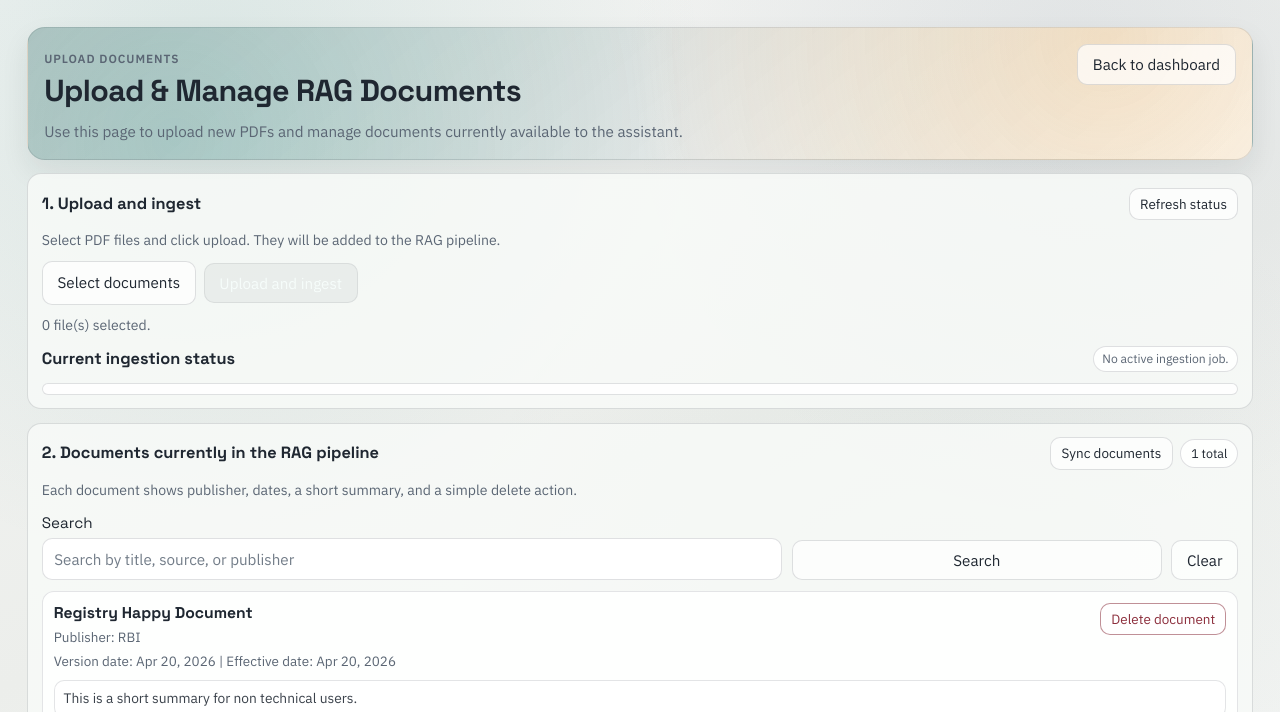
Scenario: admin upload progress › syncs documents with backfill and refreshes the library
The width and height of the screenshot is (1280, 712).
Check: the heading "Registry Happy Document" is shown, box [54,603,253,623]
Click the button "Sync documents". click: [1111, 454]
box: [1050,437,1173,470]
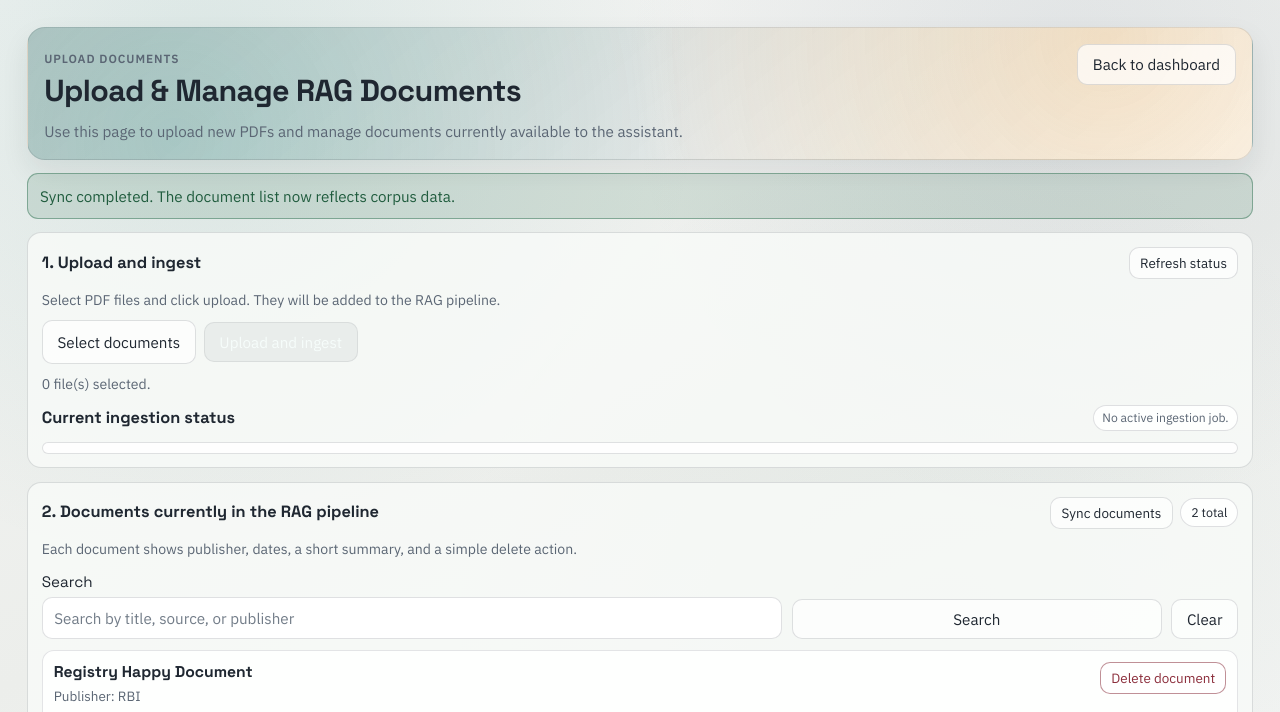
Check: the text "Sync completed. The document list now reflects corpus data." is shown, box [27,173,1253,219]
